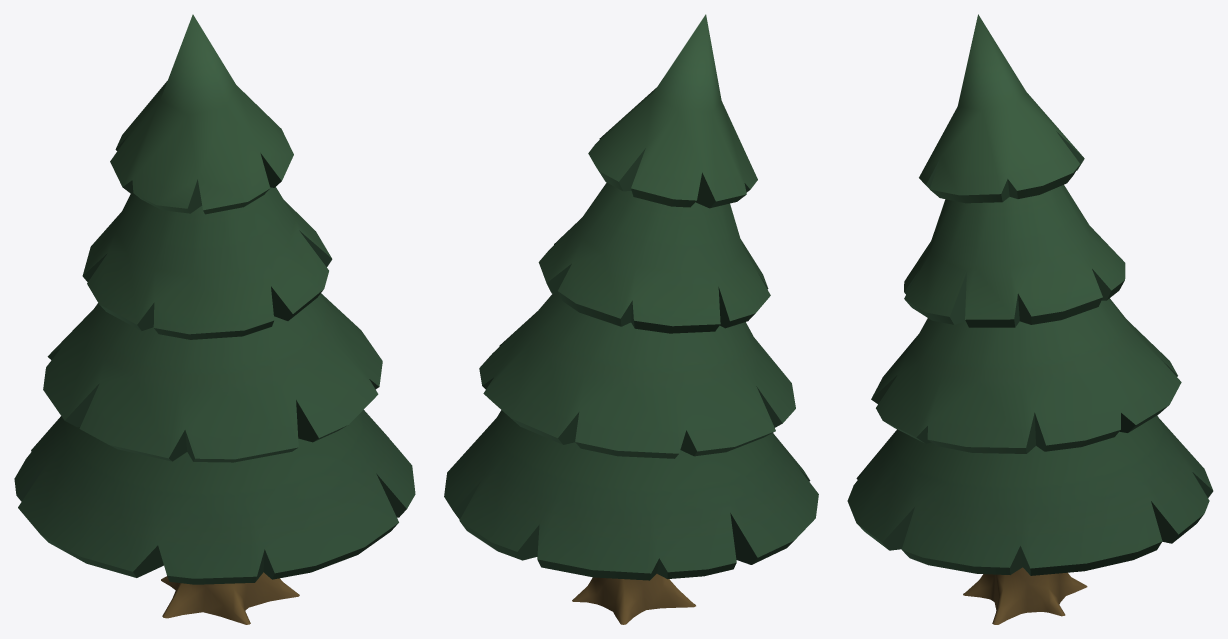
The model's file is SM_Spruce_A.fbx.
3 views of the same model, side by side, from view 1: azimuth 30°, elevation 25°; view 2: azimuth 150°, elevation 25°; view 3: azimuth 270°, elevation 25° (orthographic). The views are drawn at different scales.
Visible parts, largest first — view 1: SM_Spruce_A; view 2: SM_Spruce_A; view 3: SM_Spruce_A.
Boxes of the visible parts, x1,y1,x2,y2 form: SM_Spruce_A: (14, 14, 415, 624); SM_Spruce_A: (444, 14, 818, 624); SM_Spruce_A: (847, 14, 1213, 624).
Size of the model in its own units: 402 by 677 by 402.
